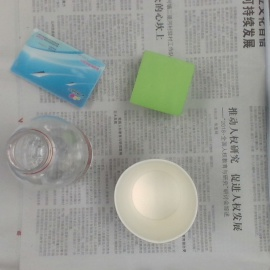bottle: (9, 116, 95, 190)
card: (12, 28, 105, 109)
cup: (112, 156, 198, 241)
